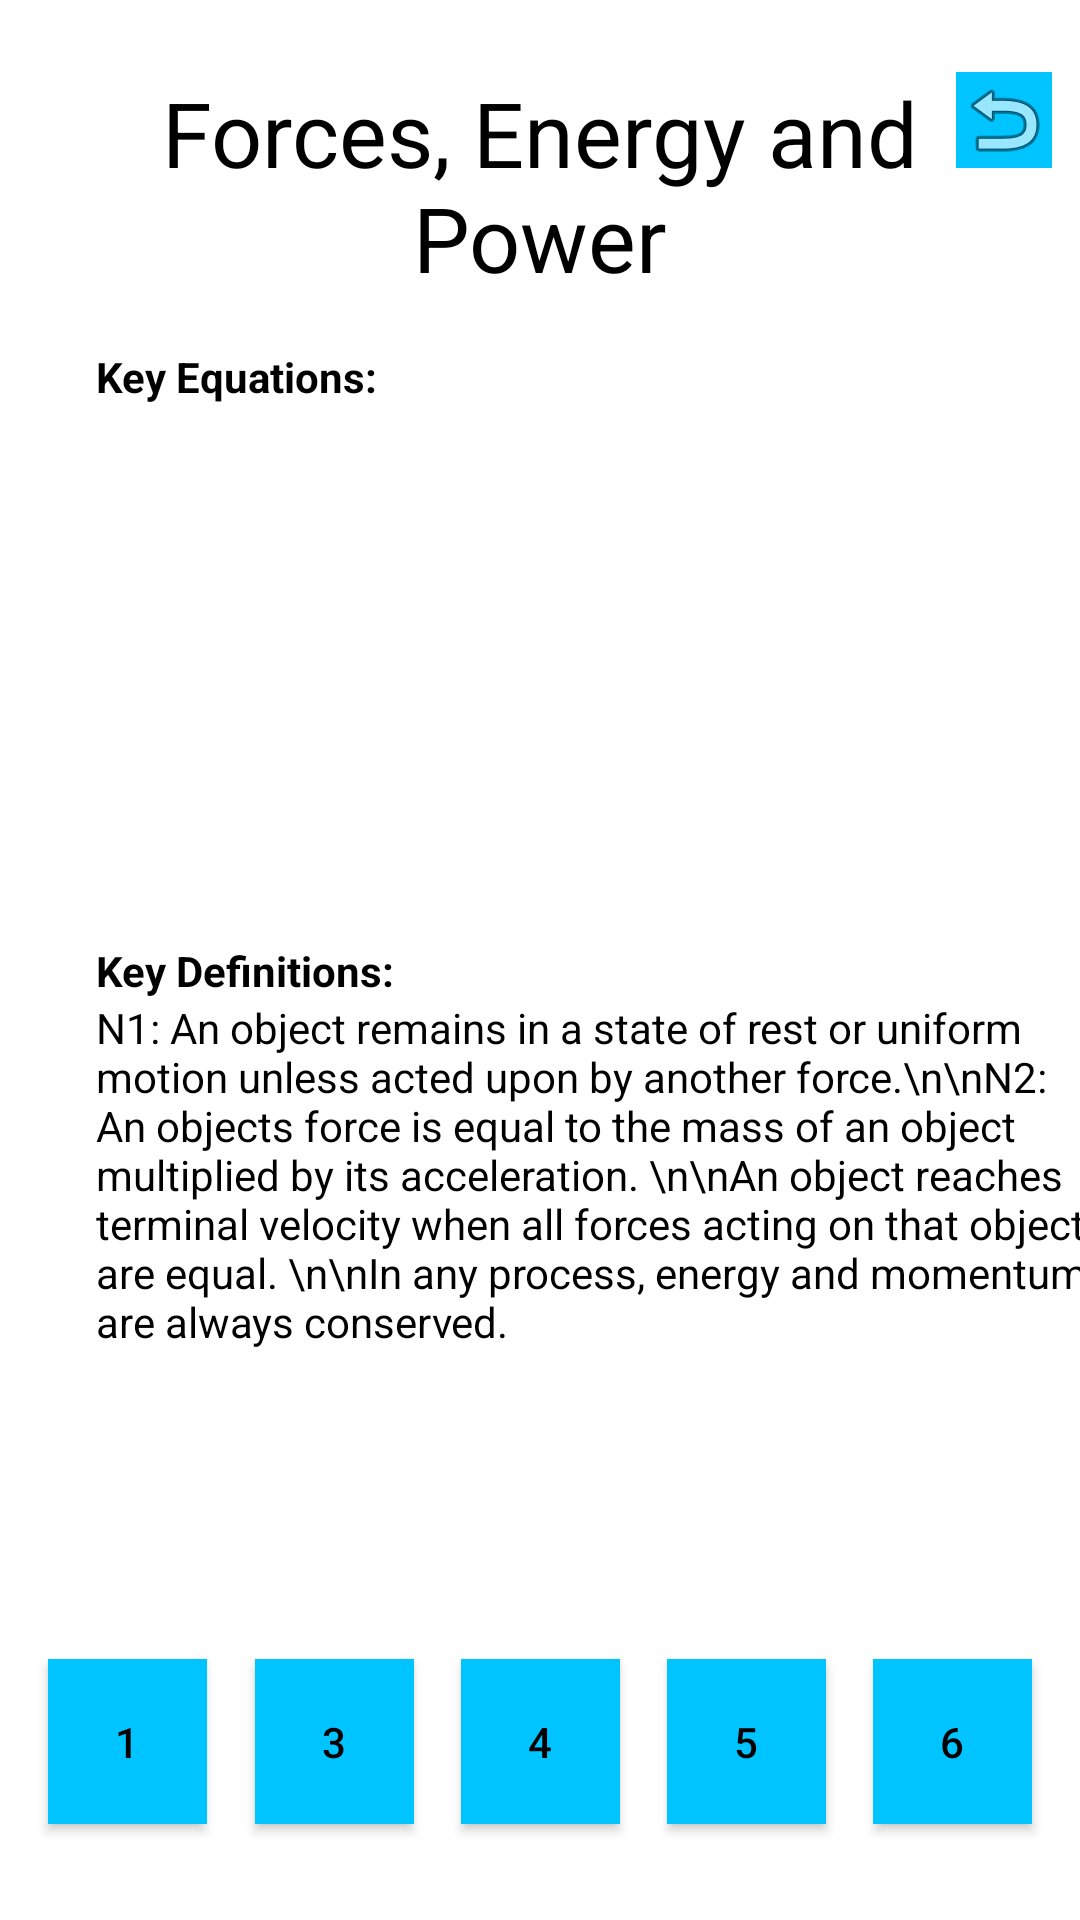

Named icons in this screenshot (1080×1920) and their centers, [x,y]:
revert: [1004,120]
